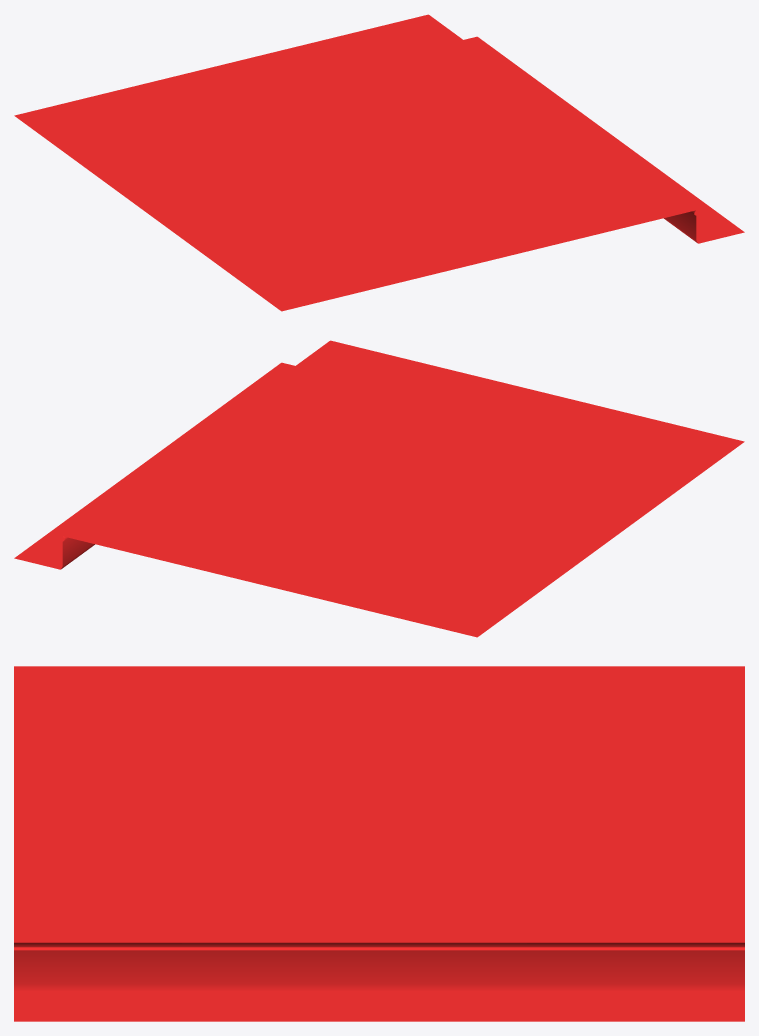
Rendered from Ceil_01.fbx.
The picture shows the model from 3 angles, top to bottom: view 1: azimuth 30°, elevation 25°; view 2: azimuth 150°, elevation 25°; view 3: azimuth 270°, elevation 25°; orthographic projection. The views are drawn at different scales.
Visible parts, largest first — view 1: Ceil_01; view 2: Ceil_01; view 3: Ceil_01.
Part boxes in pixels (x1=…): Ceil_01: x1=14, y1=14, x2=744, y2=311; Ceil_01: x1=14, y1=340, x2=744, y2=637; Ceil_01: x1=14, y1=666, x2=744, y2=1021.
Bounding box in the file's own units: 200 × 14.01 × 200.
